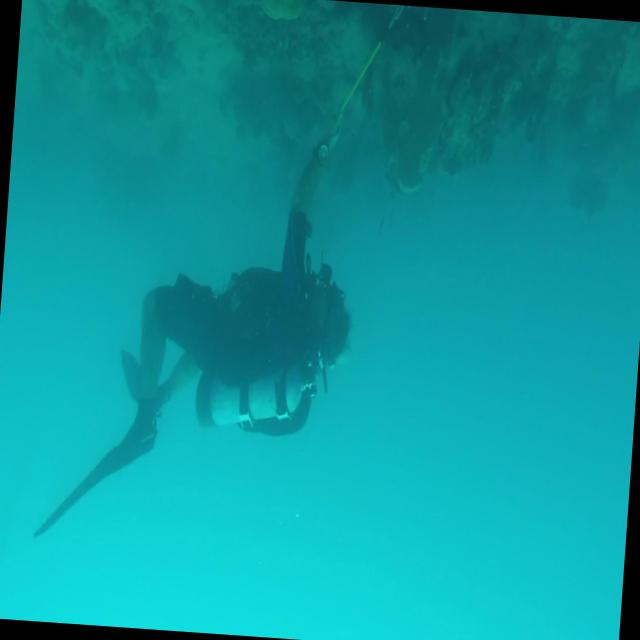human: (32, 101, 366, 562)
